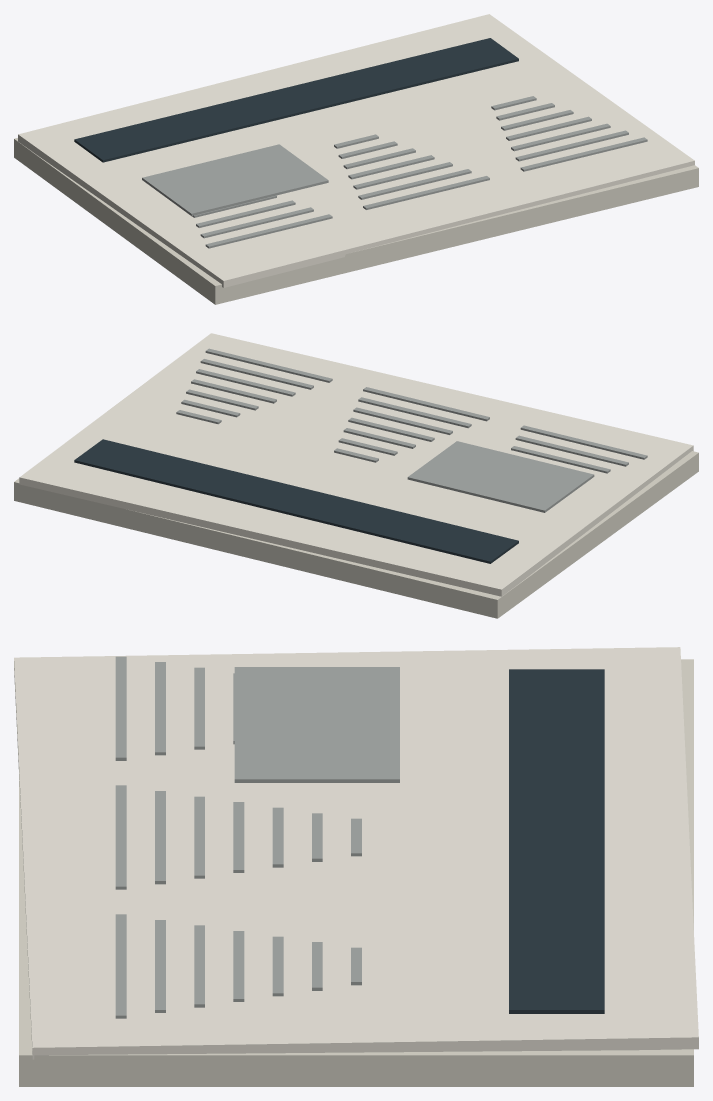
File: b16_folded_newspaper.glb
3 renders of one model, top to bottom at view 1: azimuth 30°, elevation 25°; view 2: azimuth 150°, elevation 25°; view 3: azimuth 270°, elevation 25°, orthographic. The views are drawn at different scales.
Visible parts, largest first — view 1: b16_folded_newspaper; view 2: b16_folded_newspaper; view 3: b16_folded_newspaper.
Part boxes in pixels (x1,y1,x2,y2): b16_folded_newspaper: [14, 14, 698, 304]; b16_folded_newspaper: [14, 333, 698, 618]; b16_folded_newspaper: [14, 647, 698, 1086].
Bounding box in the file's own units: 0.215 × 0.0145 × 0.1572.
